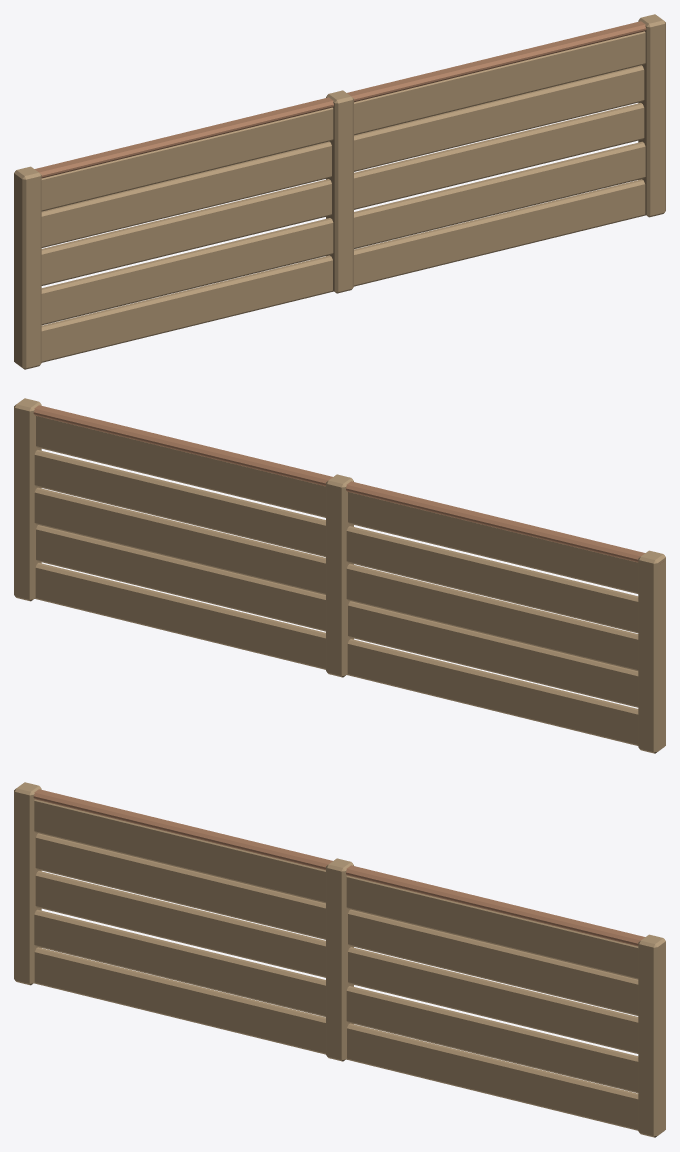
The model's file is plank_rail_solid.glb.
The picture shows the model from 3 angles, top to bottom: view 1: azimuth 30°, elevation 25°; view 2: azimuth 150°, elevation 25°; view 3: azimuth 330°, elevation 25°; orthographic projection.
Parts seen in each view (by area): view 1: plank_rail_solid; view 2: plank_rail_solid; view 3: plank_rail_solid.
Boxes of the visible parts, box(x1,y1,x2,y2) form: plank_rail_solid: box(14, 14, 665, 369); plank_rail_solid: box(14, 398, 665, 753); plank_rail_solid: box(14, 782, 665, 1137).
Size of the model in its own units: 4 by 1.15 by 0.12.
